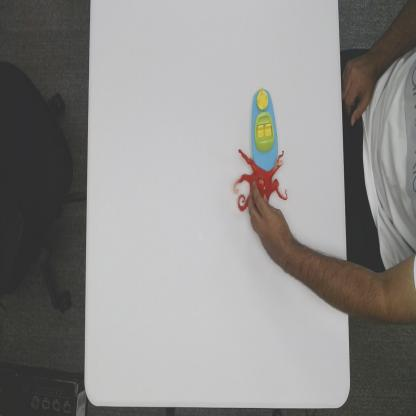Arm: (297, 241, 416, 325)
Boat: (250, 86, 279, 172)
Hand: (247, 181, 298, 278)
Octopus: (233, 146, 289, 214)
